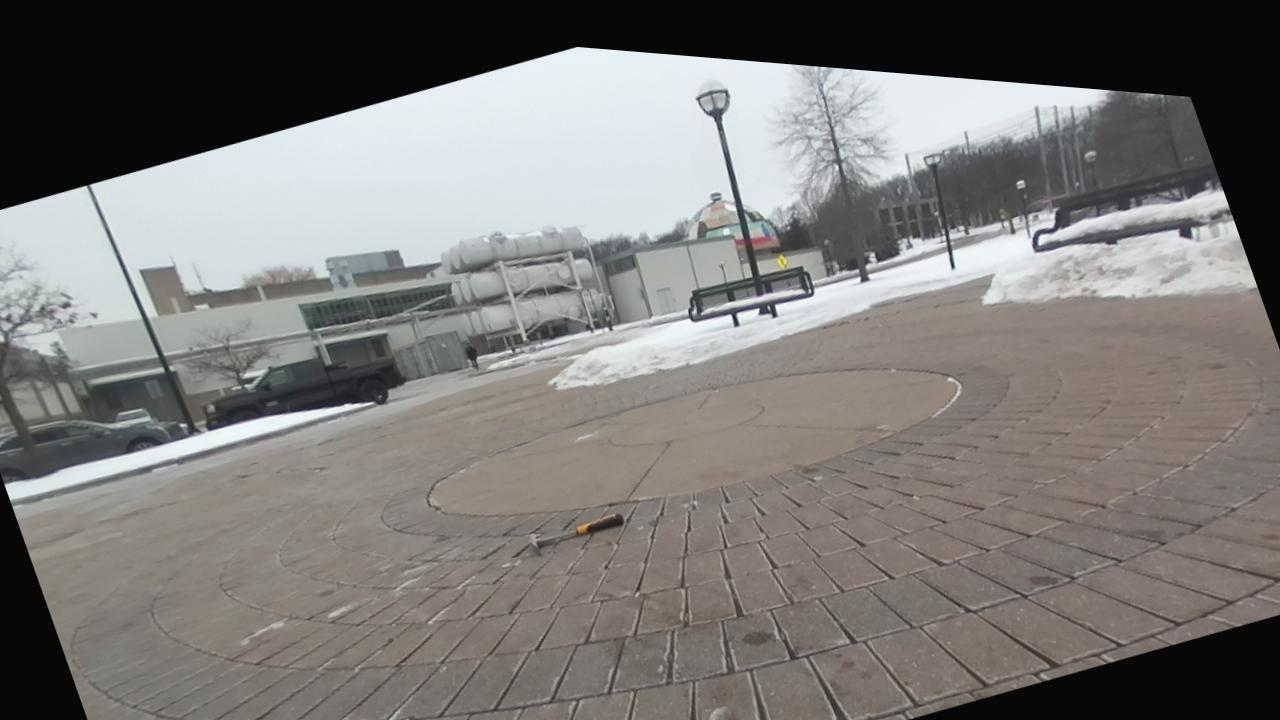pick: (528, 513, 624, 554)
